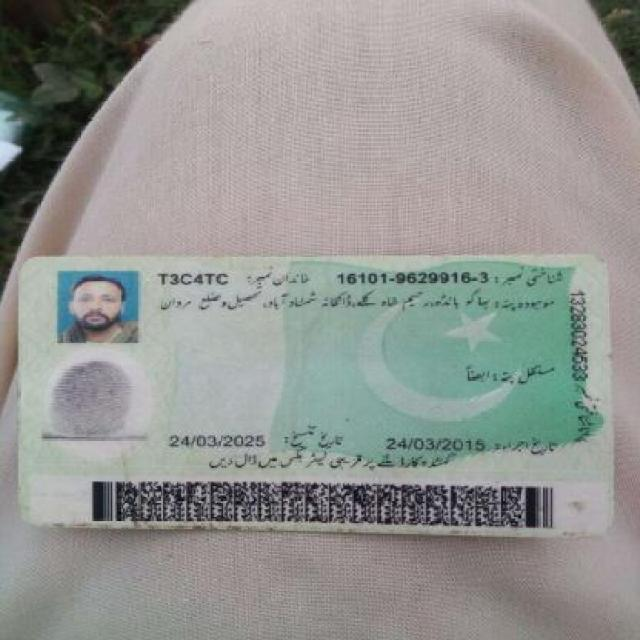Back: (14, 249, 620, 545)
